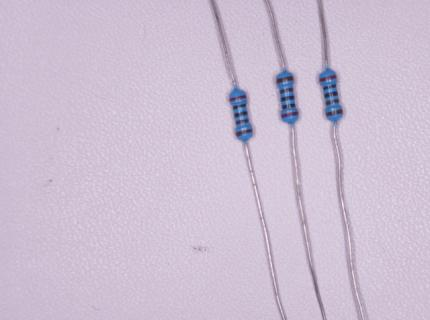Black band: (235, 111, 248, 118), (233, 104, 247, 110), (324, 84, 336, 90), (325, 92, 337, 98), (281, 96, 294, 101), (283, 104, 295, 109)
Brown band: (277, 76, 293, 84), (326, 109, 342, 117), (237, 129, 252, 137), (326, 99, 338, 105), (235, 119, 249, 124), (281, 88, 293, 93)
Red band: (230, 95, 247, 102), (281, 112, 298, 118), (320, 75, 336, 81)
